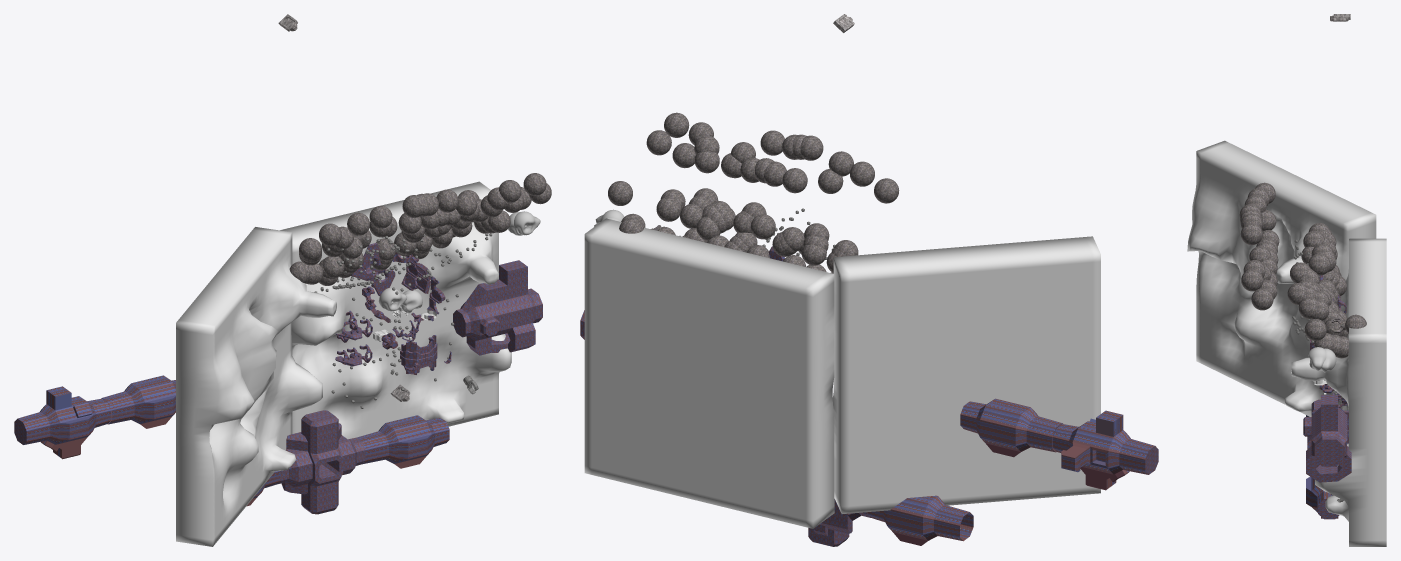
The model's file is world.gltf.
3 renders of one model, left to right at view 1: azimuth 30°, elevation 25°; view 2: azimuth 150°, elevation 25°; view 3: azimuth 270°, elevation 25°, orthographic. The views are drawn at different scales.
Visible parts, largest first — view 1: Cube_env.057, Cube.029, Cube, Cube.001, Cube.005, Cube.002, Cube.004; view 2: Cube.029, Cube_env.057, Cube.005, Cube.004, Cube.003, Cube.001; view 3: Cube_env.057, Cube.029, Cube, Cube.002, Sphere.165, Sphere.111, Sphere.164, Sphere.177, Sphere.140, Sphere.125, Sphere.112, Sphere.127 (+5 smaller).
Boxes of the visible parts, x1,y1,x2,y2 form: Cube_env.057: (176,227,336,546); Cube.029: (280,181,511,439); Cube: (453,260,542,355); Cube.001: (277,410,365,514); Cube.005: (14,386,110,459); Cube.002: (356,415,449,468); Cube.004: (101,375,175,428); Cube.029: (584,218,834,528); Cube_env.057: (832,236,1100,513); Cube.005: (1053,410,1158,490); Cube.004: (960,398,1062,457); Cube.003: (867,495,973,545); Cube.001: (808,499,870,546); Cube_env.057: (1187,140,1376,416); Cube.029: (1291,238,1386,546); Cube: (1303,395,1351,482); Cube.002: (1306,476,1339,519); Sphere.165: (1251,288,1273,310); Sphere.111: (1304,319,1326,340); Sphere.164: (1241,269,1263,291); Sphere.177: (1240,223,1262,245); Sphere.140: (1308,253,1330,275); Sphere.125: (1298,297,1317,318); Sphere.112: (1308,347,1326,370); Sphere.127: (1287,283,1306,305).
Size of what is drawn, in the model's own units: 486 by 441 by 169.
